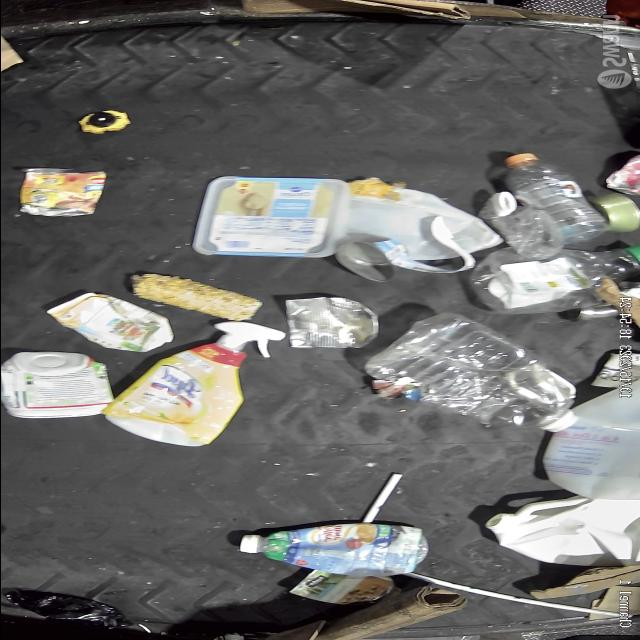can: (284, 296, 378, 348), (16, 167, 108, 217), (287, 570, 393, 604), (331, 239, 412, 283), (605, 154, 640, 197)
milk_jug: (347, 176, 503, 262), (541, 379, 640, 499), (484, 498, 640, 568)
plastic_bottle: (363, 312, 578, 433), (466, 246, 640, 314), (502, 152, 610, 242), (477, 190, 563, 260)
